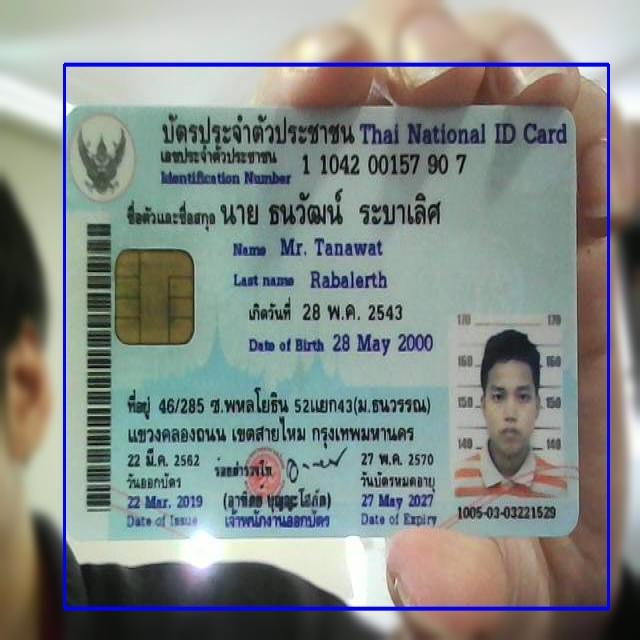Address_th: (119, 384, 435, 455)
Date_of_Birth: (330, 327, 436, 360)
Date_of_Expiry: (357, 489, 441, 512)
Date_of_Issue: (122, 491, 207, 512)
First_Name: (276, 230, 386, 261)
ID_Number: (299, 149, 471, 180)
Image: (452, 314, 564, 500)
Last_Name: (306, 263, 390, 294)
Thai_Name: (217, 181, 445, 238)
